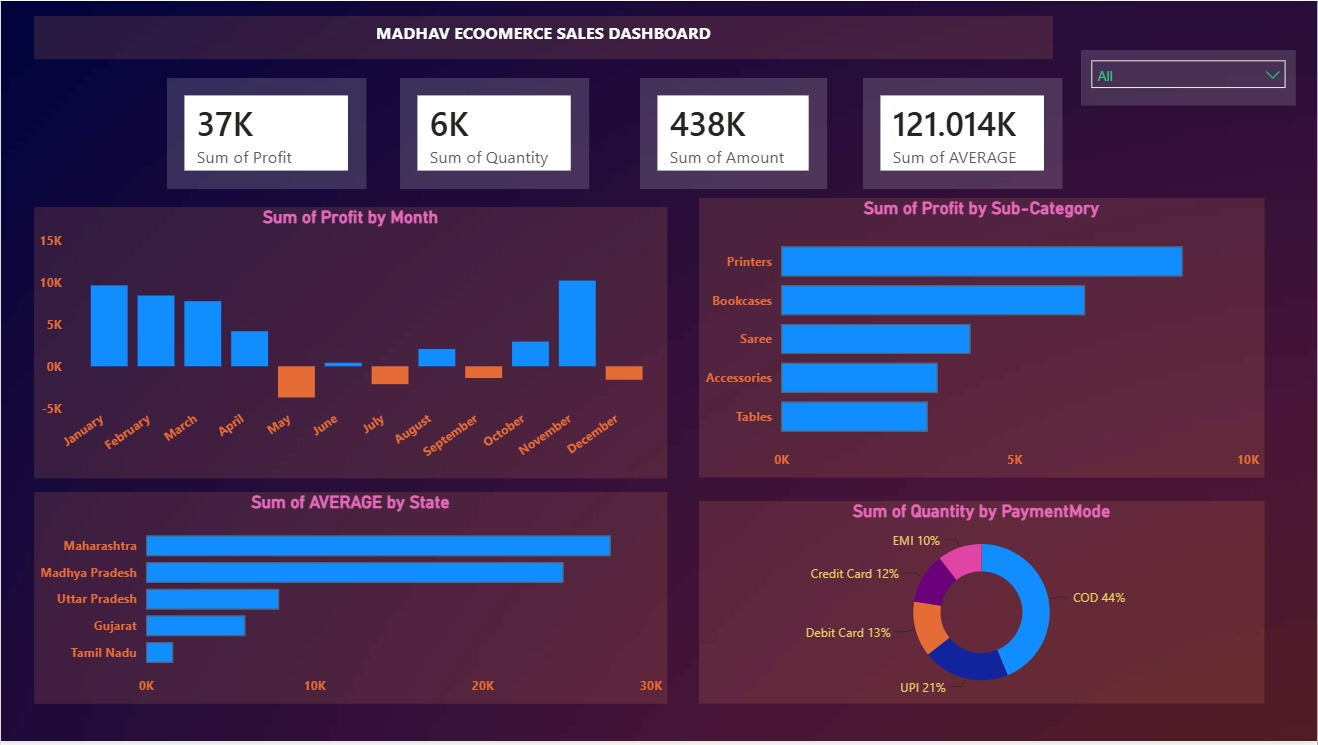

This screenshot's page, from the dashboard's own definition file:
{"tool":"powerbi","page":{"name":"Page 1","canvas":[1280,720],"ordinal":0},"visuals":[{"type":"columnChart","fields":{"Y":["Sum(Details.Profit)"],"Category":["Orders.Order Date.Variation.Date Hierarchy.Month"]},"box":[32.1,200.4,615.7,263.6],"z":0},{"type":"clusteredBarChart","fields":{"Category":["Details.Sub-Category"],"Y":["Sum(Details.Profit)"]},"box":[678.9,191.6,549.5,272.3],"z":1000},{"type":"donutChart","fields":{"Y":["Sum(Details.Quantity)"],"Category":["Details.PaymentMode"]},"box":[678.9,486.3,549.5,197.4],"z":2000},{"type":"cardVisual","fields":{"Data":["Sum(Details.Amount)"]},"box":[621.5,74.9,181.9,108],"z":3000},{"type":"cardVisual","fields":{"Data":["Sum(Details.Profit)"]},"box":[161.5,74.9,193.6,108],"z":4000},{"type":"cardVisual","fields":{"Data":["Sum(Details.Quantity)"]},"box":[388.1,74.9,183.8,108],"z":5000},{"type":"cardVisual","fields":{"Data":["Sum(Details.AVERAGE)"]},"box":[838.4,74.9,193.6,108],"z":6000},{"type":"clusteredBarChart","fields":{"Y":["Sum(Details.AVERAGE)"],"Category":["Orders.State"]},"box":[32.1,477.6,615.7,206.2],"z":7000},{"type":"slicer","fields":{"Values":["Orders.State"]},"box":[1050.5,47.7,209.1,54.5],"z":8000},{"type":"textbox","box":[32.1,14.6,991.1,41.8],"z":9000}]}

Visuals, with their boxes in screenshot pixels (x1, y1, x2, y2), scaled from the page's 1280x720 canvas onto the 1318x745 screenshot:
columnChart - Sum(Details.Profit) x Orders.Order Date.Variation.Date Hierarchy.Month: [33,207,667,480]
clusteredBarChart - Details.Sub-Category x Sum(Details.Profit): [699,198,1265,480]
donutChart - Sum(Details.Quantity) x Details.PaymentMode: [699,503,1265,707]
cardVisual - Sum(Details.Amount): [640,78,827,189]
cardVisual - Sum(Details.Profit): [166,78,366,189]
cardVisual - Sum(Details.Quantity): [400,78,589,189]
cardVisual - Sum(Details.AVERAGE): [863,78,1063,189]
clusteredBarChart - Sum(Details.AVERAGE) x Orders.State: [33,494,667,708]
slicer - Orders.State: [1082,49,1297,106]
textbox: [33,15,1054,58]
